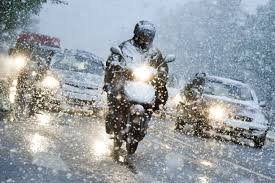motorcycle: (102, 47, 179, 152)
